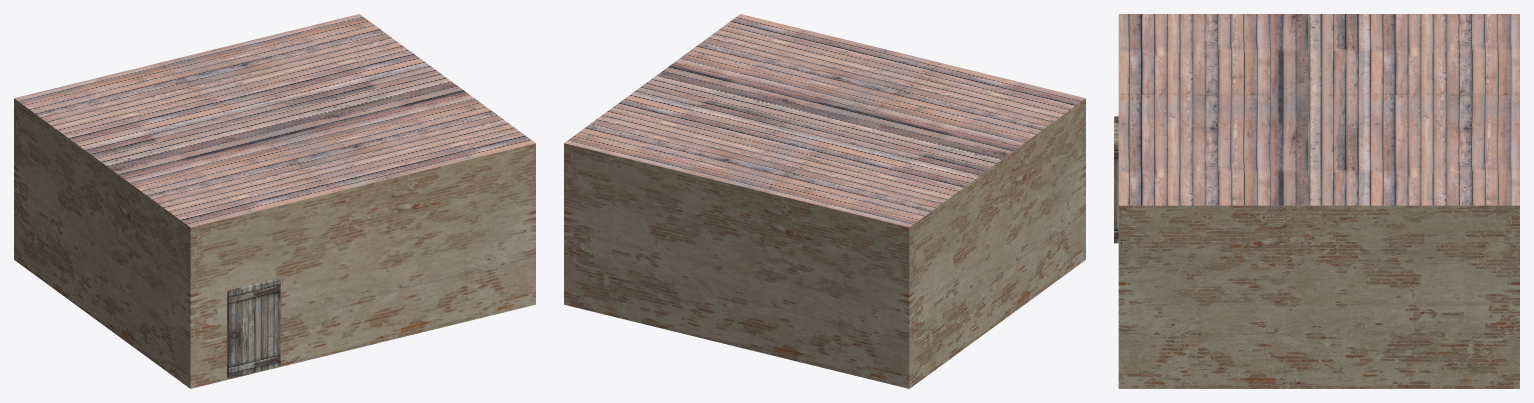
The model's file is Sotano.obj.
3 views of the same model, side by side, from view 1: azimuth 30°, elevation 25°; view 2: azimuth 150°, elevation 25°; view 3: azimuth 270°, elevation 25° (orthographic). The views are drawn at different scales.
Visible parts, largest first — view 1: Sotano:pCube1, Sotano:pCube2; view 2: Sotano:pCube1; view 3: Sotano:pCube1, Sotano:pCube2.
Part boxes in pixels (<box>): Sotano:pCube1: <box>14,14,535,388</box>; Sotano:pCube2: <box>227,278,280,378</box>; Sotano:pCube1: <box>564,14,1085,388</box>; Sotano:pCube1: <box>1118,14,1519,388</box>; Sotano:pCube2: <box>1114,116,1118,243</box>.
Bounding box in the file's own units: 40.88 × 18.26 × 36.61.
Materials: 4 (4 with a texture image).
